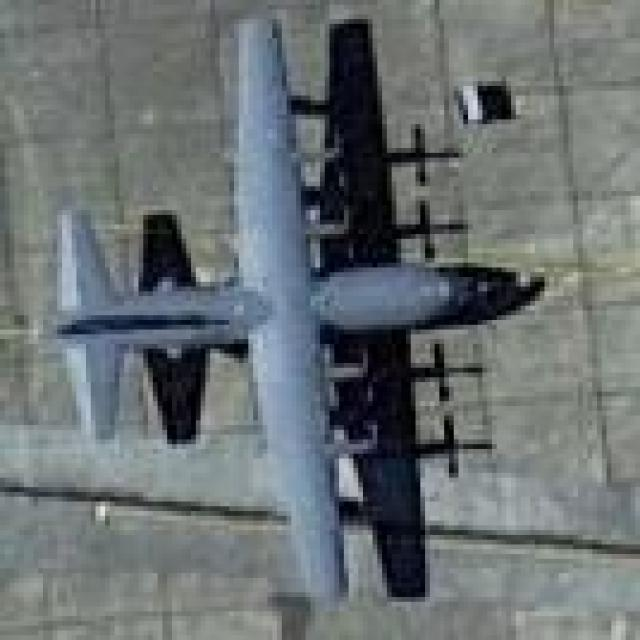C-130_TopDown: (45, 8, 553, 611)
